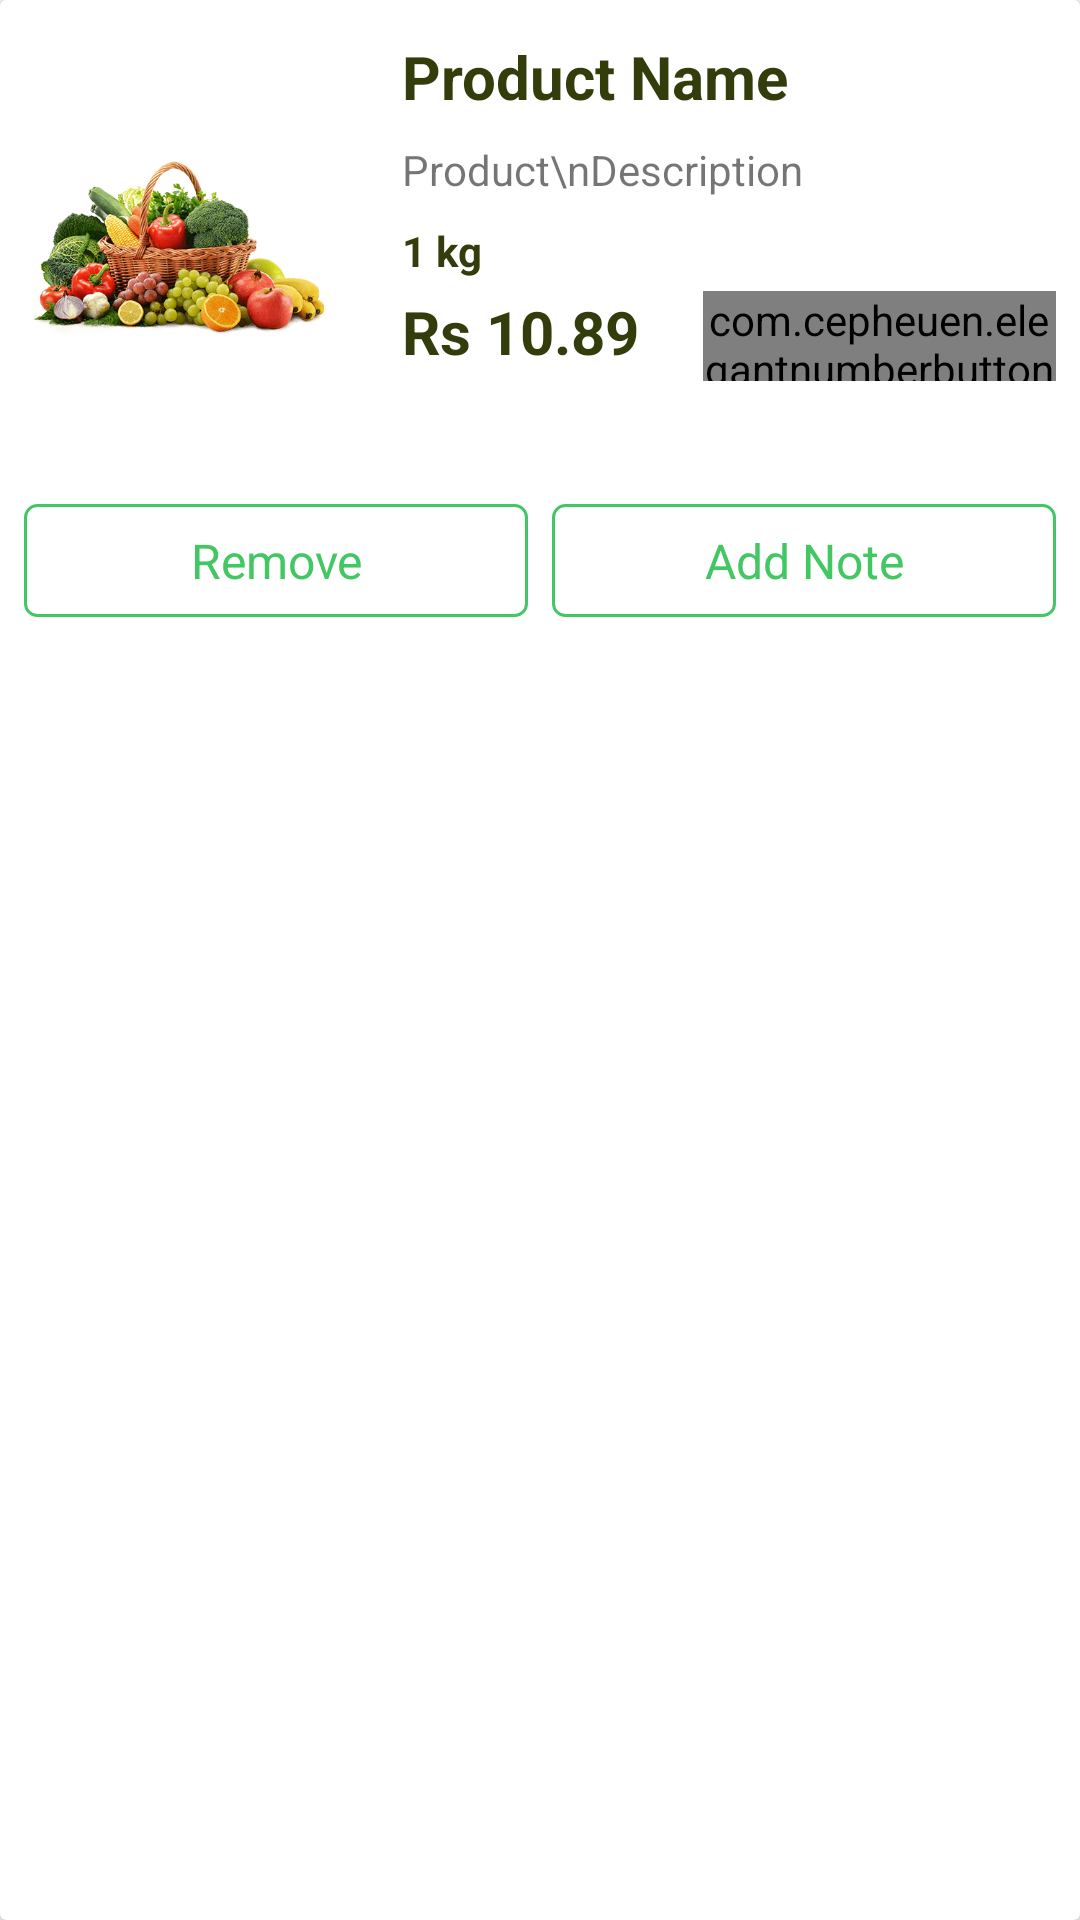

Screen size 1080 x 1920. Icon name, then its box in pixels as box(x1, y1, x2, y2):
vegetable: box(34, 161, 325, 333)
